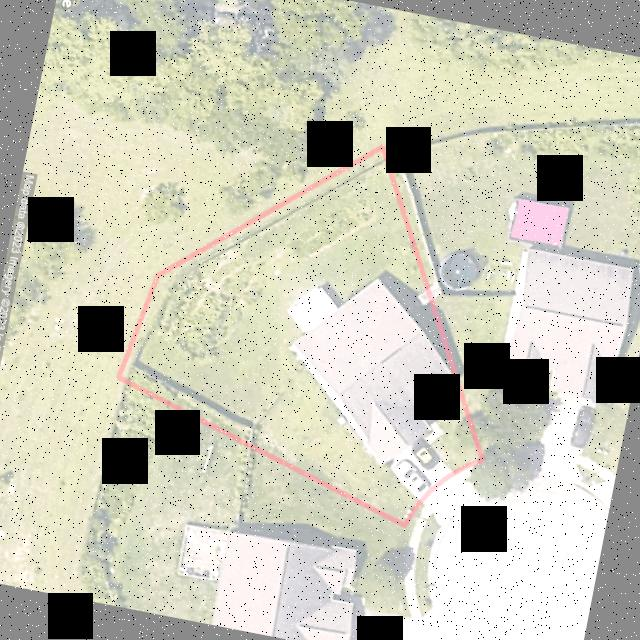Driveway: (386, 405, 452, 499)
Extra Driveway: (423, 465, 476, 526)
Extra Lawn: (405, 502, 426, 530), (421, 513, 440, 541)
Extra Sidewalk: (413, 505, 433, 534)
House: (289, 279, 454, 463)
Other: (418, 290, 429, 304)
